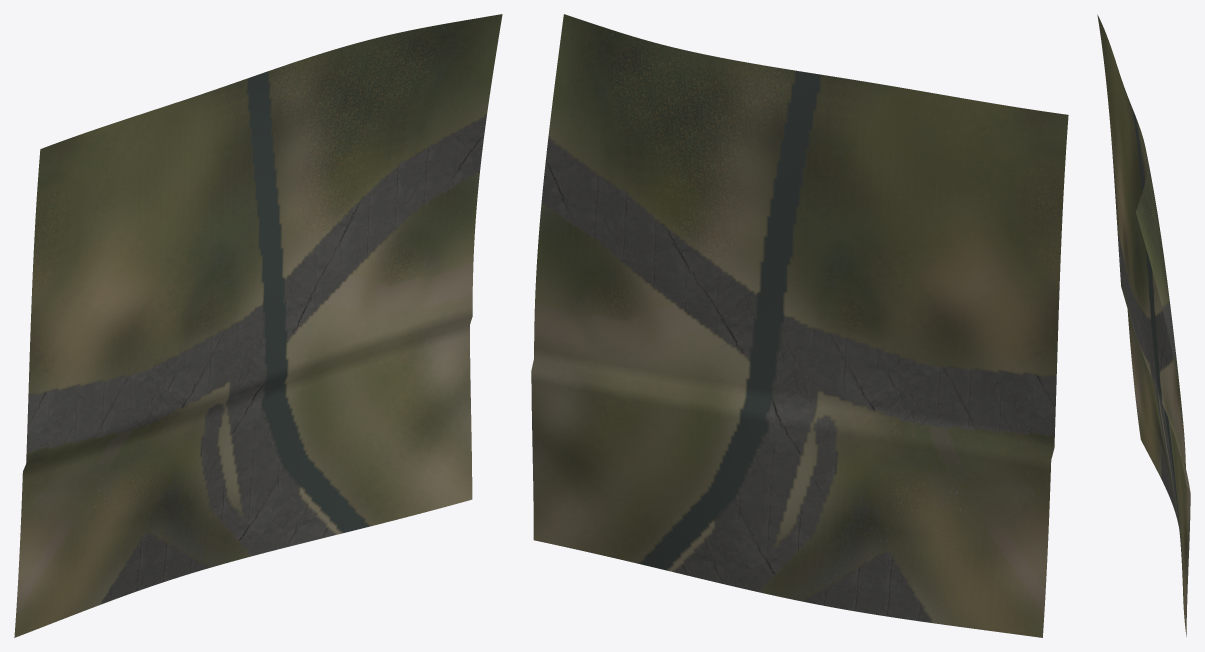
Rendered from ground_core_03_01.obj.
3 renders of one model, left to right at view 1: azimuth 30°, elevation 25°; view 2: azimuth 150°, elevation 25°; view 3: azimuth 270°, elevation 25°, orthographic. The views are drawn at different scales.
Parts seen in each view (by area): view 1: ground_core_03_01; view 2: ground_core_03_01; view 3: ground_core_03_01.
Boxes of the visible parts, x1,y1,x2,y2 form: ground_core_03_01: (14,14,502,637); ground_core_03_01: (531,14,1068,637); ground_core_03_01: (1097,14,1190,636).
Size of the model in its own units: 50 by 50 by 9.94.
Materials: 1 (1 with a texture image).
